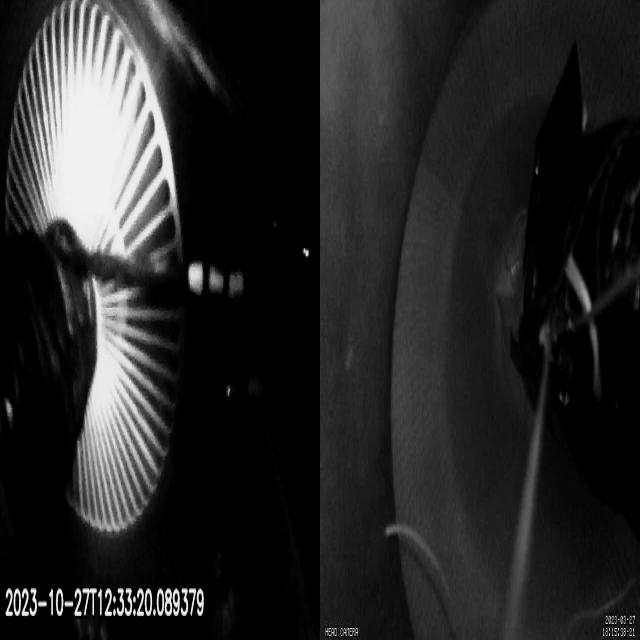white-dots: (187, 259, 244, 302)
